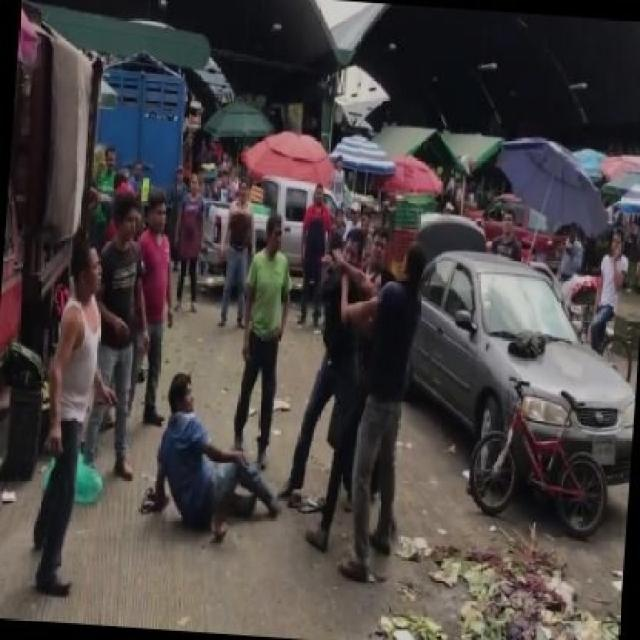fight: (151, 225, 394, 540)
non-fight: (26, 242, 120, 599), (333, 244, 426, 586), (222, 211, 304, 475), (590, 226, 632, 349)
